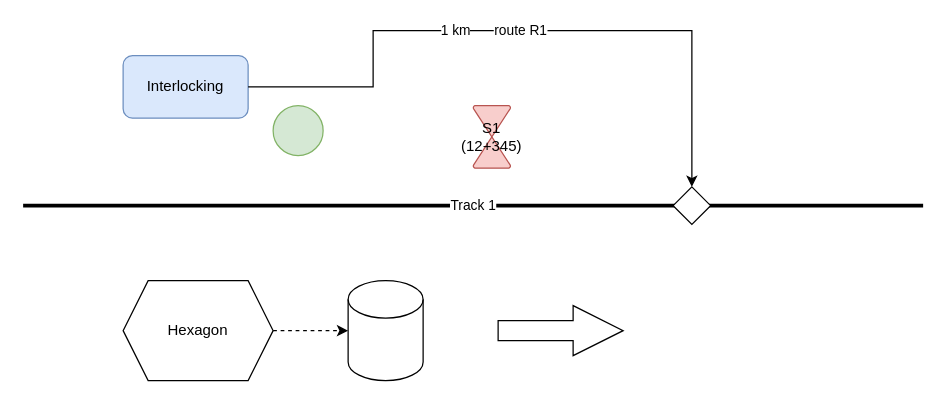
This 948x403 diagram has some shape labels left out. The centre of each missing label's shape, as x and y in pixels:
"Balise B12" goes at pixel 691 205.
"DB" goes at pixel 385 330.
